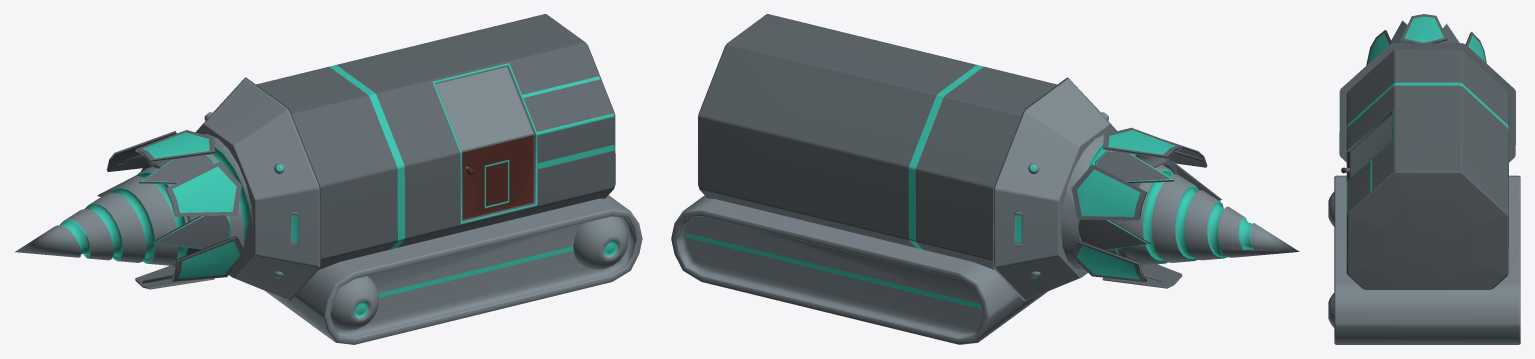
The model's file is SM_trivella.fbx.
3 views of the same model, side by side, from view 1: azimuth 30°, elevation 25°; view 2: azimuth 150°, elevation 25°; view 3: azimuth 270°, elevation 25° (orthographic). The views are drawn at different scales.
Visible parts, largest first — view 1: pPlane17; view 2: pPlane17; view 3: pPlane17.
Part boxes in pixels (x1,y1,x2,y2): pPlane17: [15, 14, 642, 344]; pPlane17: [671, 14, 1299, 344]; pPlane17: [1328, 14, 1520, 344].
Size of the model in its own units: 2431 by 889 by 849.
